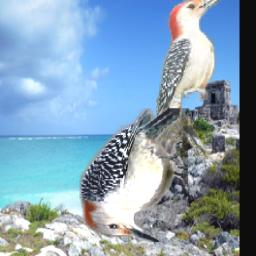Woodpecker: (80, 109, 188, 243), (156, 0, 226, 159)
